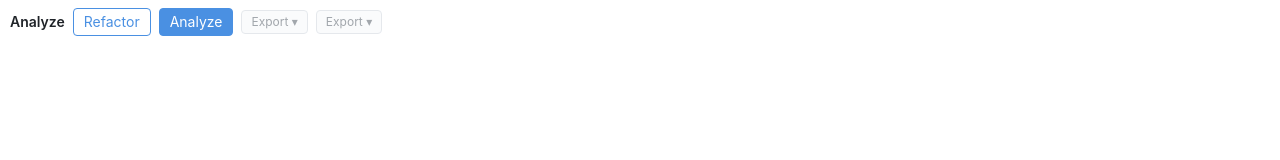
it: AnalyzePane: actions › a 409 from the server shows the error box and does not throw
The width and height of the screenshot is (1280, 160).
Click the button with test id "analyze-run": (196, 22) left=159, top=8, right=234, bottom=36
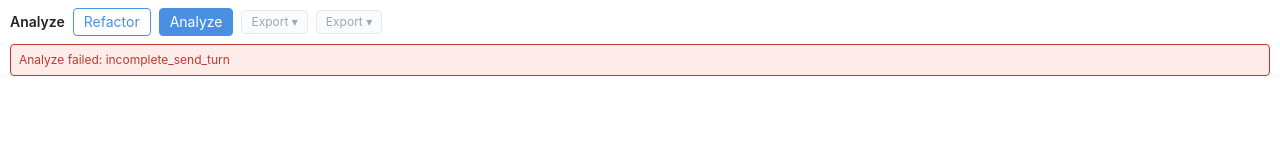
Result: the text with test id "analyze-error" shows "incomplete_send_turn" at left=106, top=52, right=230, bottom=67
